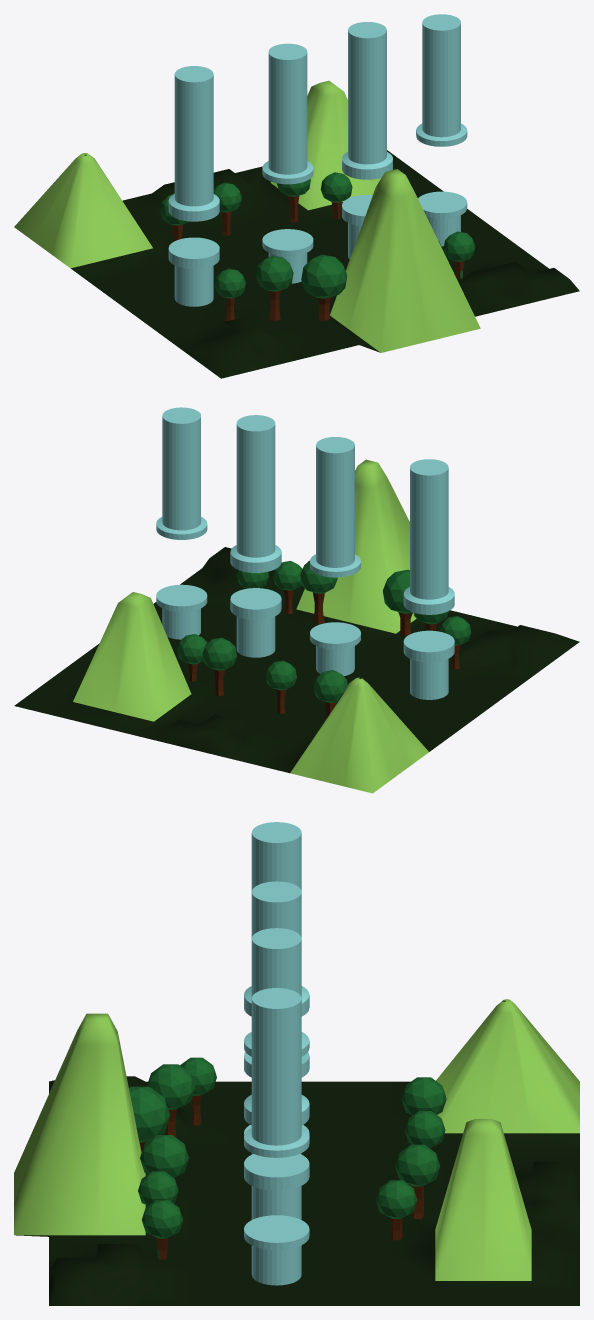
Rendered from env.fbx.
The picture shows the model from 3 angles, top to bottom: view 1: azimuth 30°, elevation 25°; view 2: azimuth 150°, elevation 25°; view 3: azimuth 270°, elevation 25°; orthographic projection. The views are drawn at different scales.
Parts seen in each view (by area): view 1: Plane, Cylinder.004, Cylinder.006, Cylinder.005, Cylinder.007, Cylinder.003, Icosphere, Cylinder, Cylinder.002, Icosphere.006, Cylinder.001, Icosphere.008 (+4 smaller); view 2: Plane, Cylinder.006, Cylinder.004, Cylinder.005, Cylinder.007, Cylinder.001, Cylinder.003, Cylinder, Cylinder.002, Icosphere.003, Icosphere, Icosphere.005 (+5 smaller); view 3: Plane, Cylinder.007, Cylinder, Cylinder.006, Cylinder.004, Cylinder.001, Cylinder.005, Icosphere.003, Icosphere.006, Icosphere, Icosphere.005, Icosphere.002 (+5 smaller).
Boxes of the visible parts, box(x1,y1,x2,y2) form: Plane: box(14, 80, 579, 378); Cylinder.004: box(168, 66, 219, 221); Cylinder.006: box(342, 22, 392, 179); Cylinder.005: box(262, 43, 313, 184); Cylinder.007: box(416, 14, 467, 146); Cylinder.003: box(168, 237, 219, 306); Icosphere: box(301, 254, 347, 320); Cylinder: box(418, 191, 467, 246); Cylinder.002: box(262, 229, 313, 283); Icosphere.006: box(256, 255, 293, 321); Cylinder.001: box(342, 195, 372, 259); Icosphere.008: box(214, 268, 245, 321); Plane: box(14, 459, 579, 793); Cylinder.006: box(230, 415, 281, 572); Cylinder.004: box(403, 459, 454, 614); Cylinder.005: box(310, 437, 360, 577); Cylinder.007: box(156, 407, 207, 539); Cylinder.001: box(230, 588, 281, 657); Cylinder.003: box(403, 630, 454, 699); Cylinder: box(156, 584, 207, 639); Cylinder.002: box(310, 622, 360, 676); Icosphere.003: box(202, 637, 236, 696); Icosphere: box(382, 569, 412, 636); Icosphere.005: box(300, 560, 337, 624); Plane: box(14, 999, 579, 1305); Cylinder.007: box(244, 988, 309, 1157); Cylinder: box(244, 1215, 309, 1285); Cylinder.006: box(244, 928, 309, 1125); Cylinder.004: box(244, 822, 309, 1016); Cylinder.001: box(244, 1154, 309, 1219); Cylinder.005: box(244, 881, 309, 1056); Icosphere.003: box(395, 1144, 440, 1218); Icosphere.006: box(146, 1064, 195, 1137); Icosphere: box(129, 1086, 170, 1152); Icosphere.005: box(140, 1135, 188, 1177); Icosphere.002: box(376, 1180, 417, 1240).
Bounding box in the file's own units: 1759 × 1169 × 1875.
